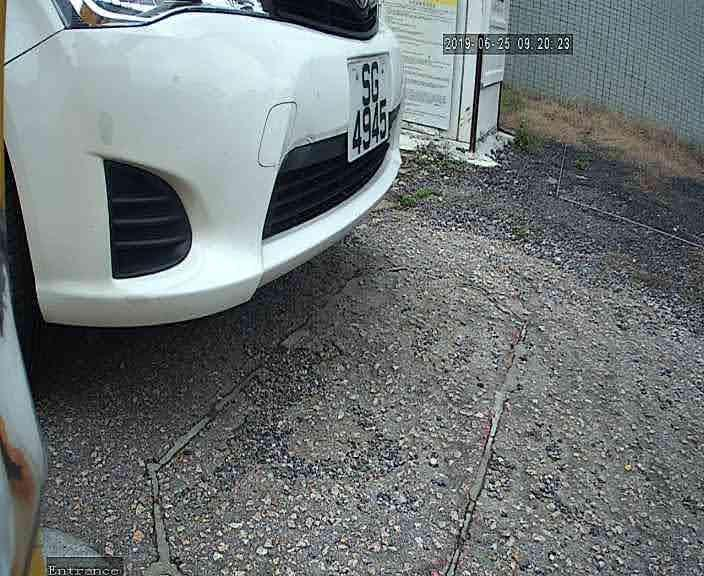privatecar: (1, 1, 416, 352)
